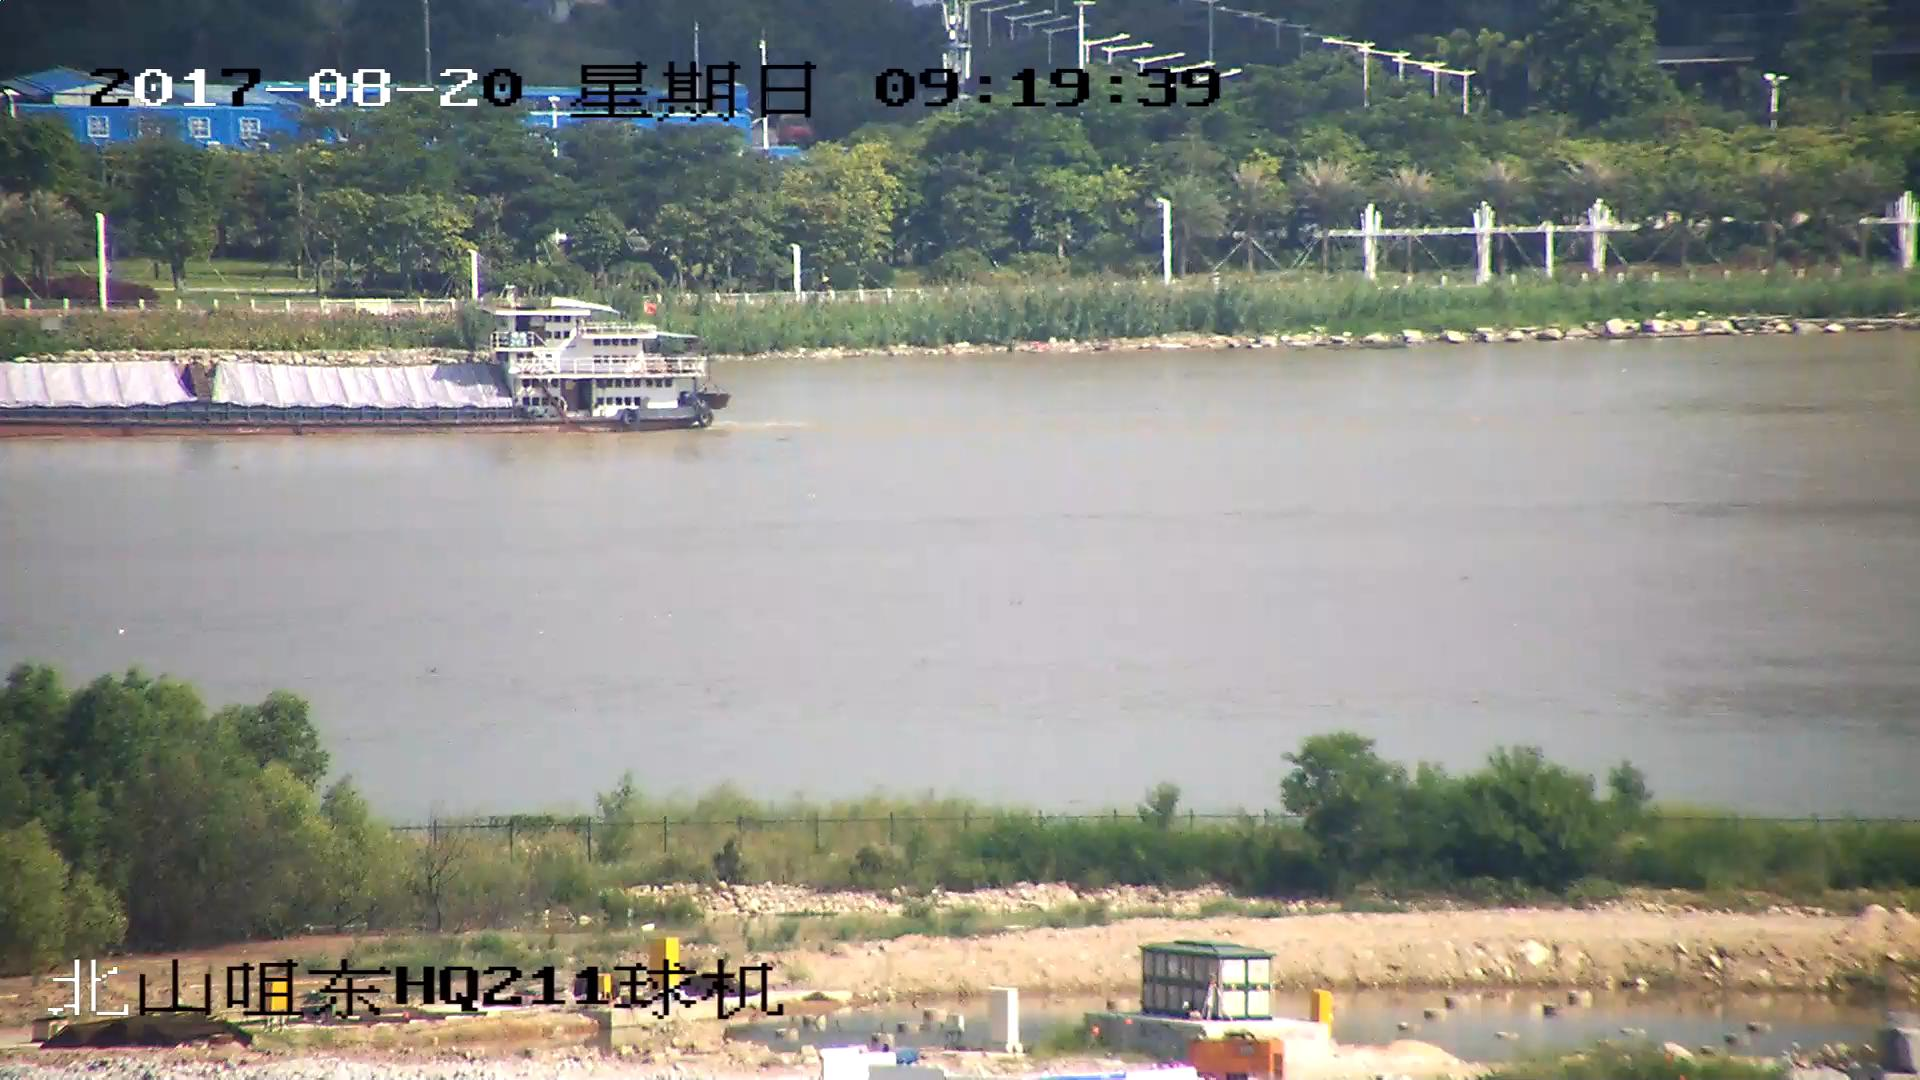general cargo ship: (1, 288, 721, 440)
